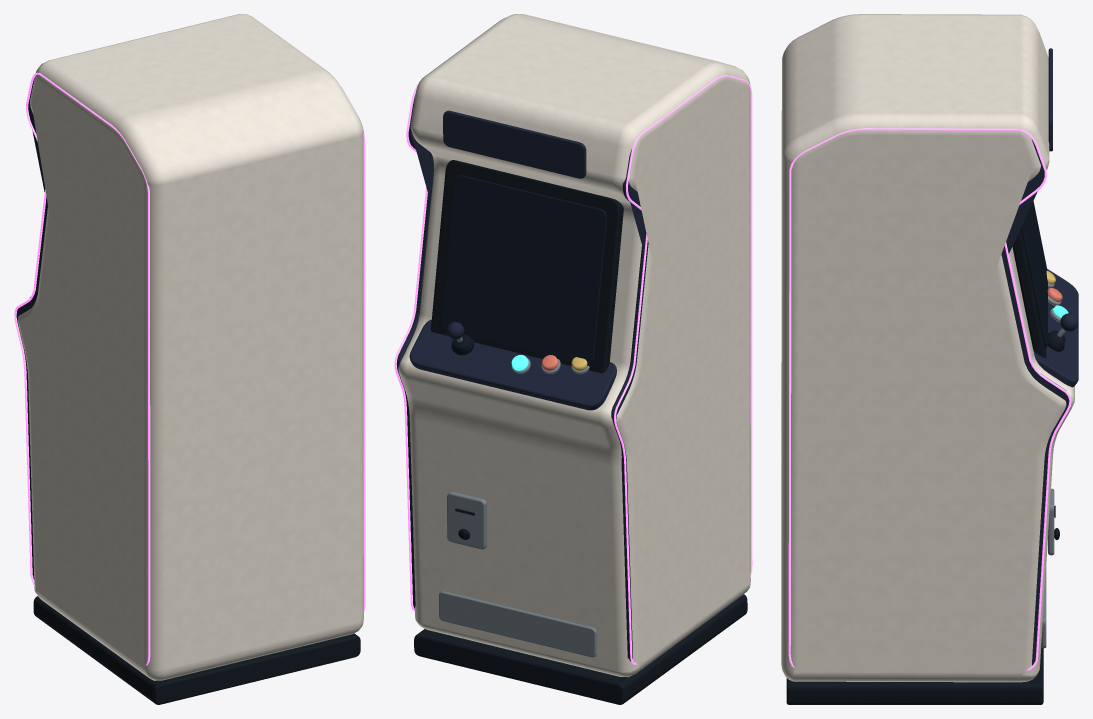
File: arcade_cabinet_b.glb
3 renders of one model, left to right at view 1: azimuth 30°, elevation 25°; view 2: azimuth 150°, elevation 25°; view 3: azimuth 270°, elevation 25°, orthographic. The views are drawn at different scales.
Parts seen in each view (by area): view 1: CabinetShell, RubberBase, NeonTrimLeft, NeonTrimRight, SidePanelLeft; view 2: CabinetShell, Screen, RubberBase, ControlDeck, ScreenBezel, MarqueeBlank, KickPlate, NeonTrimLeft, SidePanelLeft, SidePanelRight, CoinSlot, NeonTrimRight (+1 smaller); view 3: CabinetShell, RubberBase, NeonTrimRight, SidePanelRight, ControlDeck, Screen, ScreenBezel, Stick, MarqueeBlank, CoinSlot.
Boxes of the visible parts, box(x1,y1,x2,y2) form: CabinetShell: box(17, 14, 363, 680); RubberBase: box(33, 596, 360, 704); NeonTrimLeft: box(14, 72, 150, 665); NeonTrimRight: box(363, 131, 365, 611); SidePanelLeft: box(16, 78, 47, 579); CabinetShell: box(398, 14, 750, 677); Screen: box(441, 175, 607, 365); RubberBase: box(414, 594, 747, 704); ControlDeck: box(409, 319, 616, 410); ScreenBezel: box(431, 160, 623, 373); MarqueeBlank: box(443, 110, 586, 178); KickPlate: box(439, 591, 596, 657); NeonTrimLeft: box(614, 75, 752, 664); SidePanelLeft: box(611, 149, 648, 661); SidePanelRight: box(396, 95, 433, 608); CoinSlot: box(447, 491, 486, 549); NeonTrimRight: box(394, 81, 427, 611); CabinetShell: box(781, 14, 1074, 682); RubberBase: box(786, 638, 1043, 704); NeonTrimRight: box(788, 128, 1071, 670); SidePanelRight: box(1001, 139, 1069, 665); ControlDeck: box(1033, 269, 1078, 387); Screen: box(1021, 201, 1047, 346); ScreenBezel: box(1012, 228, 1046, 358); Stick: box(1047, 313, 1078, 352); MarqueeBlank: box(1048, 48, 1052, 151); CoinSlot: box(1048, 488, 1059, 555).
Size of the model in its own units: 0.75 by 1.85 by 0.8452.
10 materials, 10 textured.
